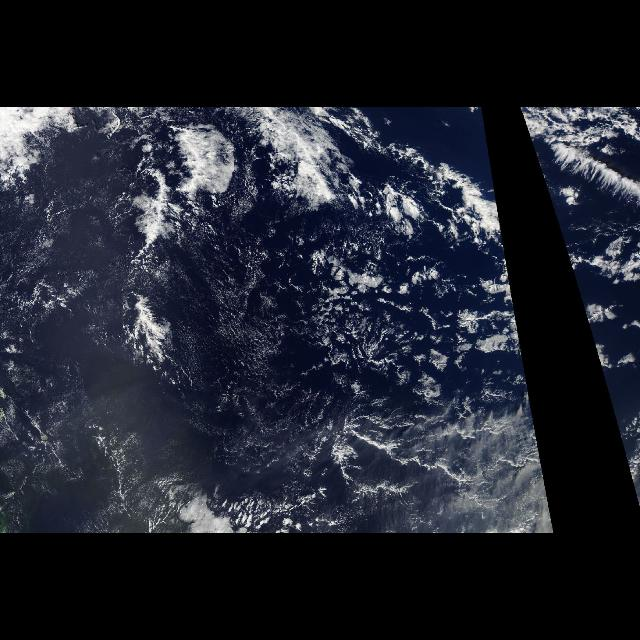Fish: (117, 124, 237, 386)
Sugar: (180, 241, 312, 477)
